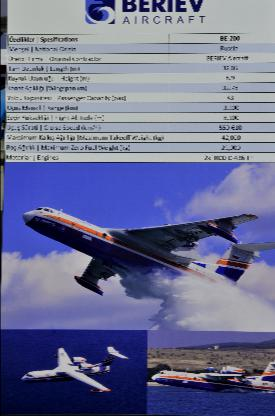B52: (21, 206, 274, 296), (20, 346, 128, 392), (150, 360, 273, 393)
